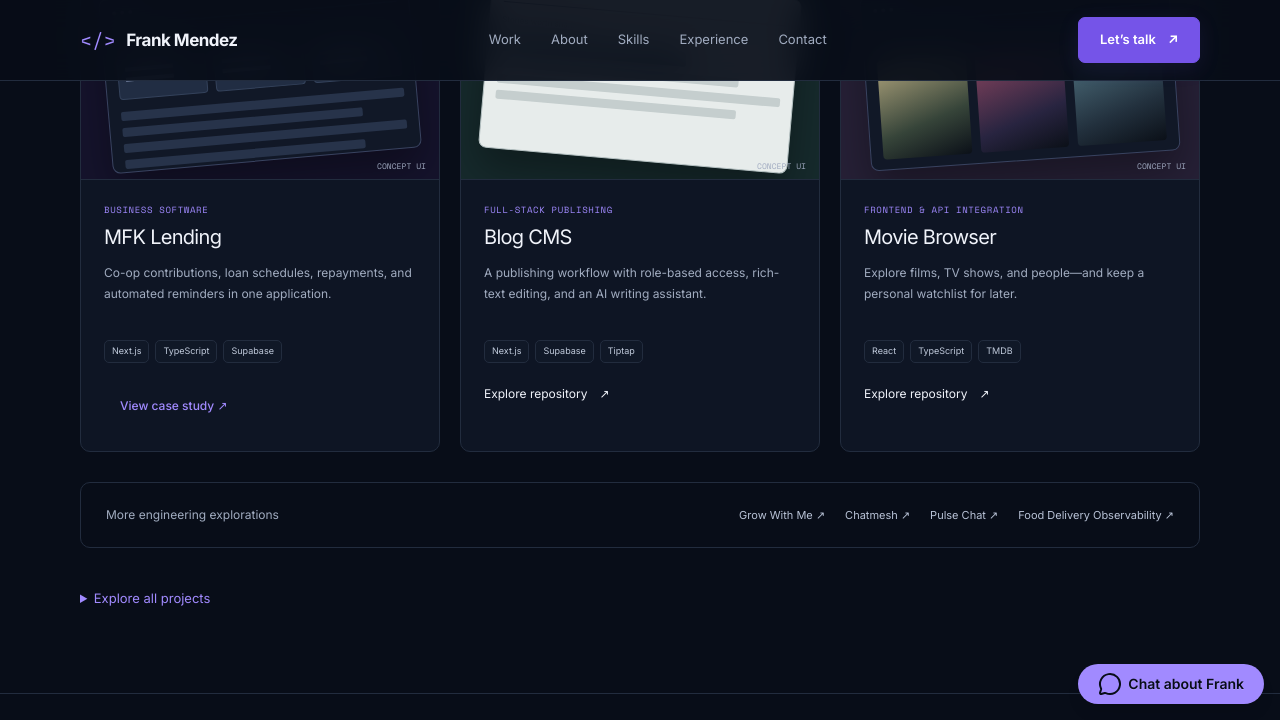
Test: Portfolio redesign › opens and closes the MFK case study without changing page navigation
(page scrolled)
Click the button "View case study ↗": (174, 406) [104,384,244,428]
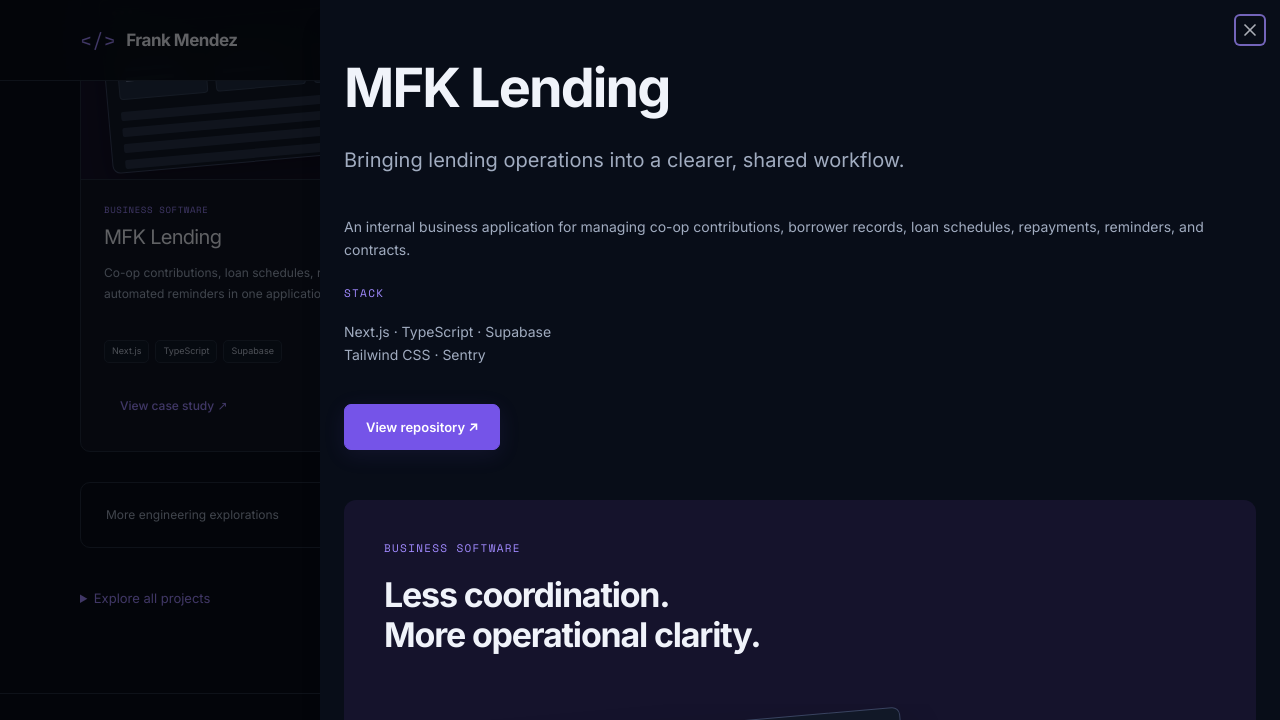
Click the button named "Close": (1250, 30) [1236,16,1264,44]
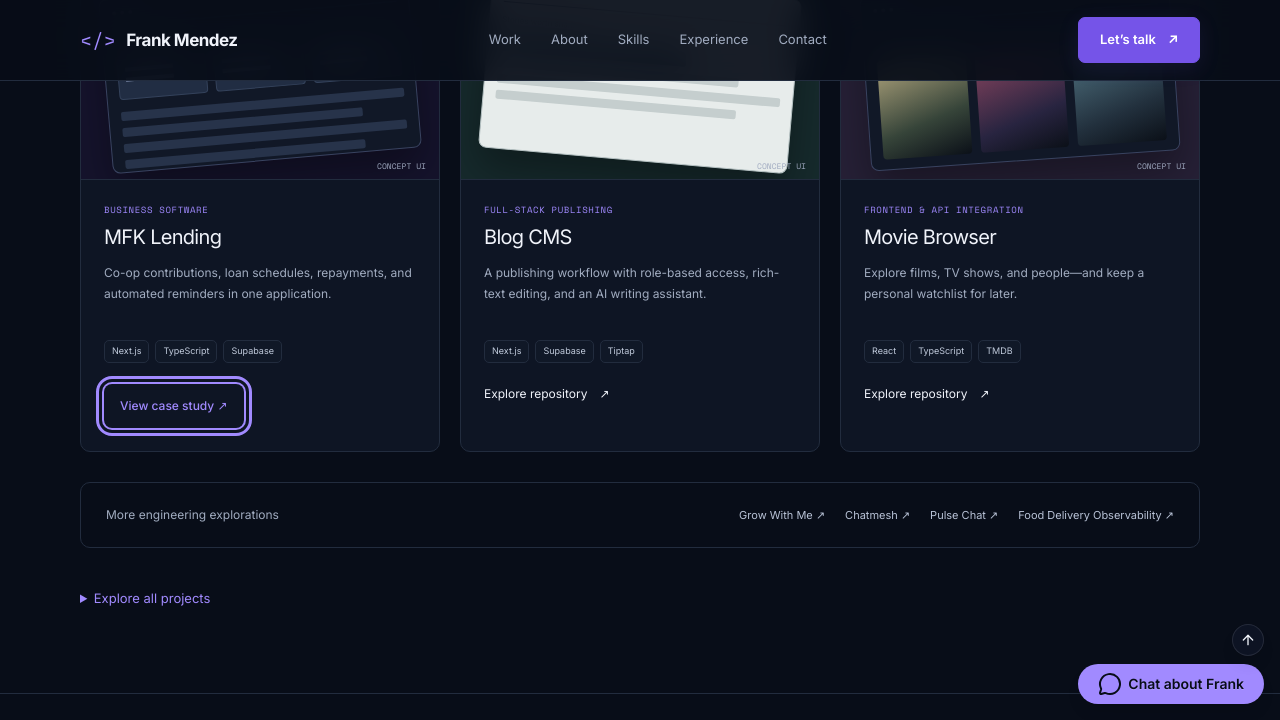
Expected: the dialog is gone
